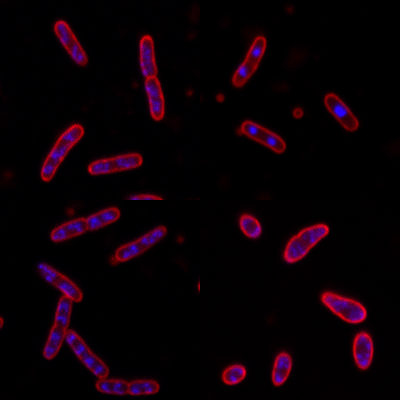CAM: (232, 34, 267, 87), (240, 119, 286, 154), (322, 91, 359, 132)
Control: (40, 122, 85, 183), (49, 206, 121, 243), (137, 33, 166, 122), (62, 328, 111, 380), (112, 224, 169, 264), (40, 294, 73, 360), (51, 20, 88, 67), (87, 152, 143, 176), (93, 377, 163, 396)
MP265: (281, 223, 330, 264), (320, 290, 367, 325), (351, 329, 375, 372), (271, 351, 294, 387), (221, 363, 247, 385)
Oblique: (35, 261, 84, 303), (236, 212, 262, 239)
Vesicle: (291, 105, 304, 119), (184, 85, 196, 98), (175, 234, 187, 246), (65, 205, 76, 217), (215, 92, 225, 103)
